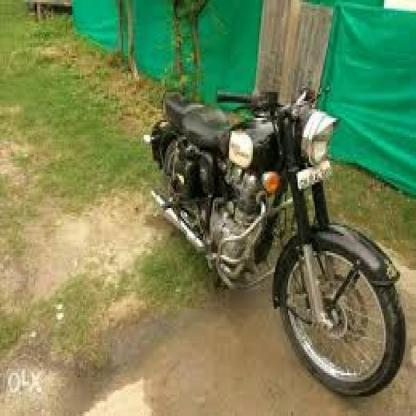bike: (149, 90, 408, 399)
